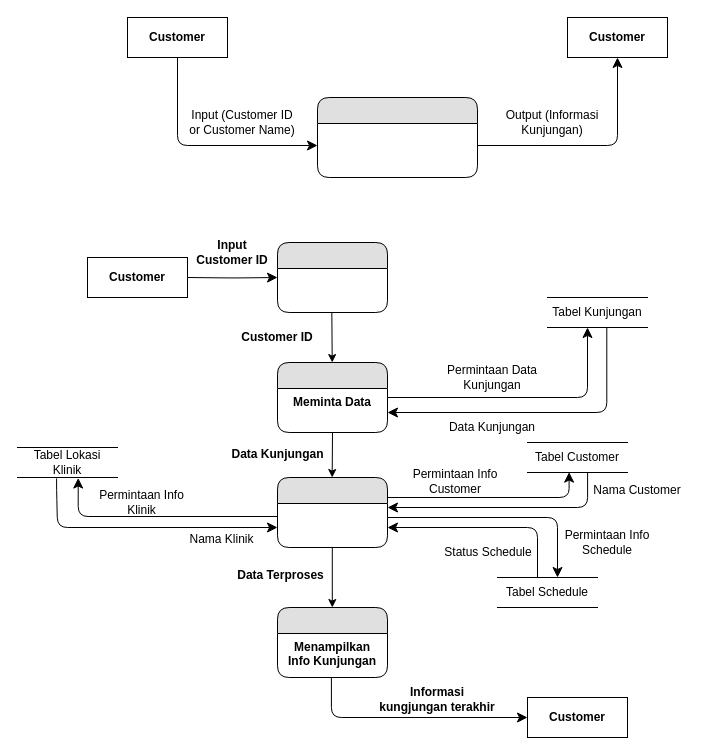
Some shapes in this 710 by 755 pixel diagram are drawn without their labels. Here are the shapes that lost their labels. From the top down, the centre of each, then its label:
At [397,137]: "Sistem Informasi Kunjungan Pasien".
At [332,277]: "Menerima Input".
At [332,512]: "Memproses Data".
